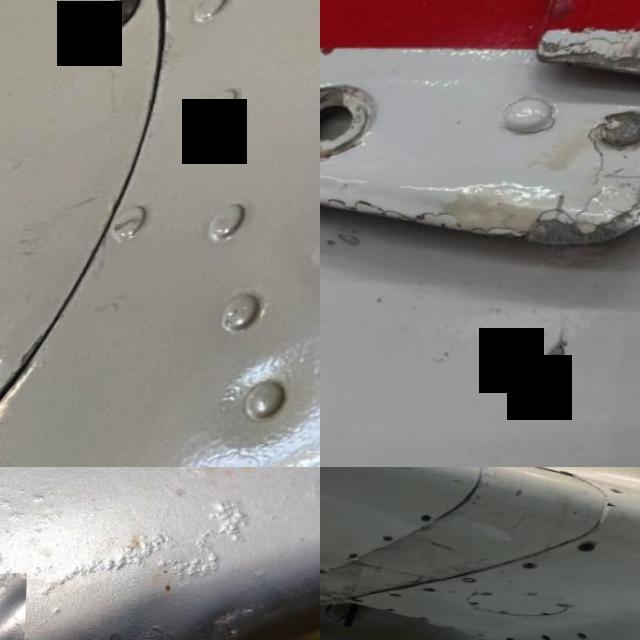Crack: (320, 14, 640, 291), (512, 324, 604, 374), (600, 500, 632, 518), (551, 470, 586, 482)
Missing_Fastener: (0, 350, 16, 407), (578, 544, 600, 558), (522, 564, 542, 576), (422, 588, 442, 598), (417, 516, 434, 527), (384, 609, 401, 618), (380, 536, 399, 544), (390, 594, 404, 602), (349, 554, 361, 562), (355, 600, 369, 606), (542, 635, 557, 640), (320, 567, 328, 576)
